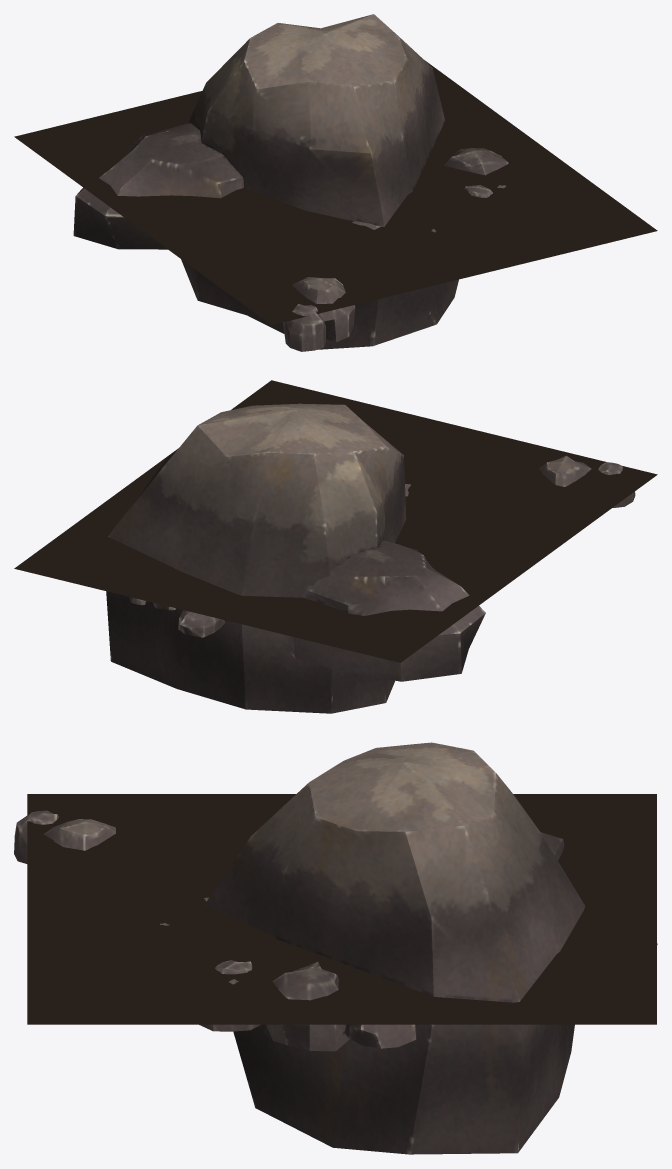
3 renders of one model, top to bottom at view 1: azimuth 30°, elevation 25°; view 2: azimuth 150°, elevation 25°; view 3: azimuth 270°, elevation 25°, orthographic. The views are drawn at different scales.
Visible parts, largest first — view 1: Stones, GroundShade; view 2: Stones, GroundShade; view 3: Stones, GroundShade.
Boxes of the visible parts, x1=… form: Stones: x1=73, y1=14, x2=508, y2=351; GroundShade: x1=14, y1=60, x2=657, y2=325; Stones: x1=106, y1=403, x2=635, y2=713; GroundShade: x1=14, y1=380, x2=657, y2=662; Stones: x1=14, y1=742, x2=657, y2=1154; GroundShade: x1=27, y1=794, x2=656, y2=1024.
Bounding box in the file's own units: 23.45 × 15.4 × 27.61.
Materials: 2 (2 with a texture image).
